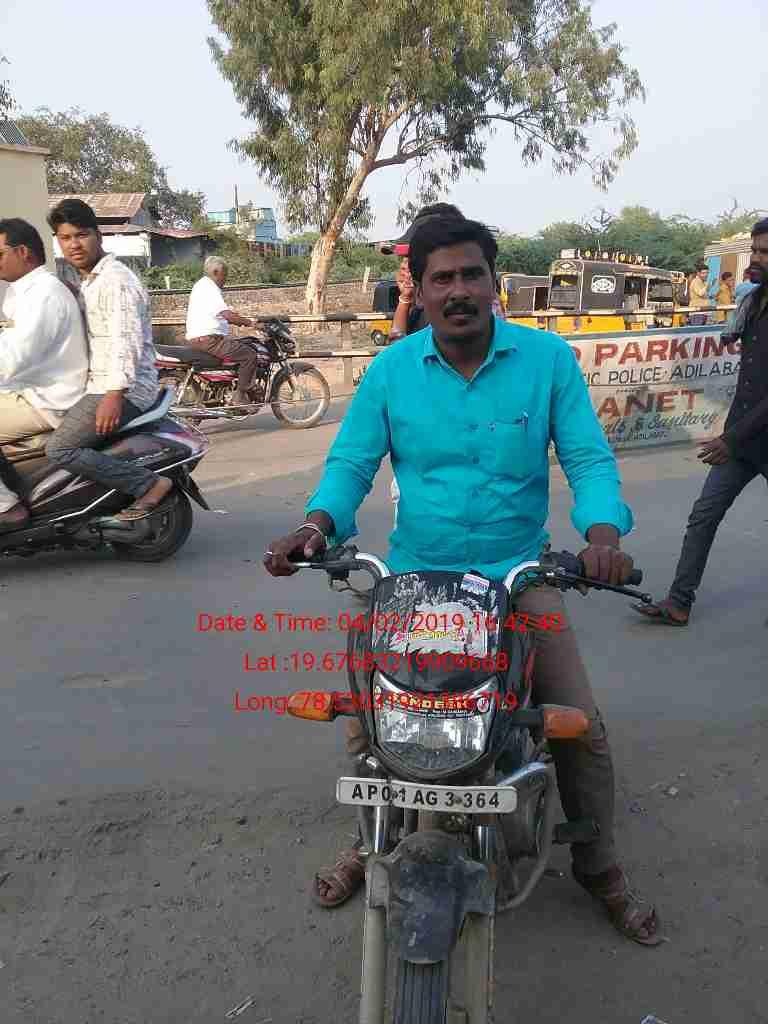plate: (333, 774, 529, 825)
